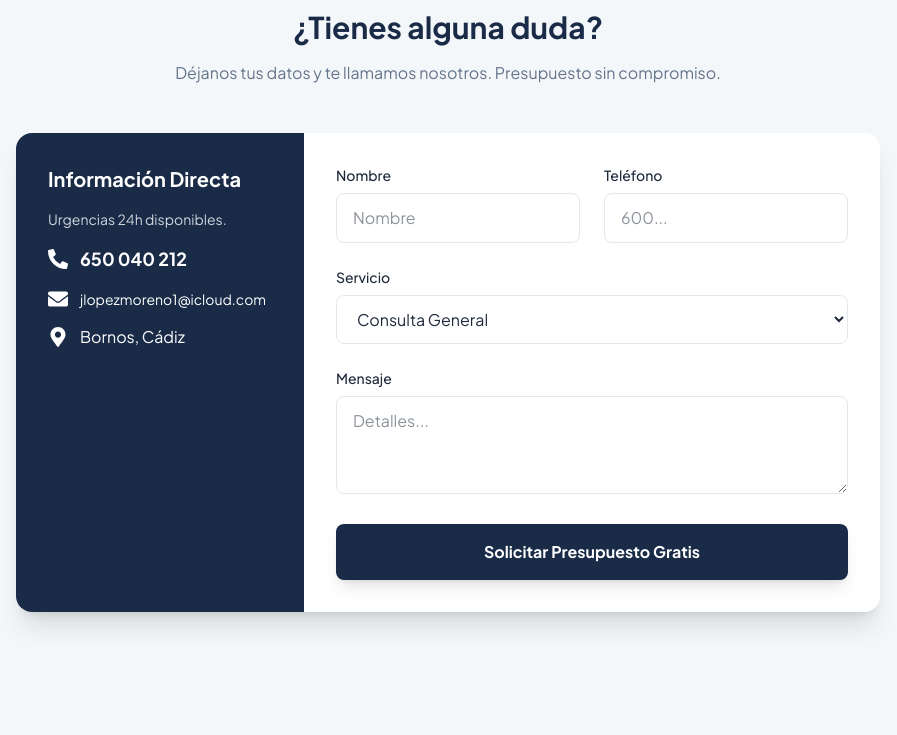
Test: Contact › shows inline fallback with WhatsApp on submission failure
Type "Juan" into the field labelled "Nombre". click: (458, 218)
box: left=336, top=193, right=580, bottom=243
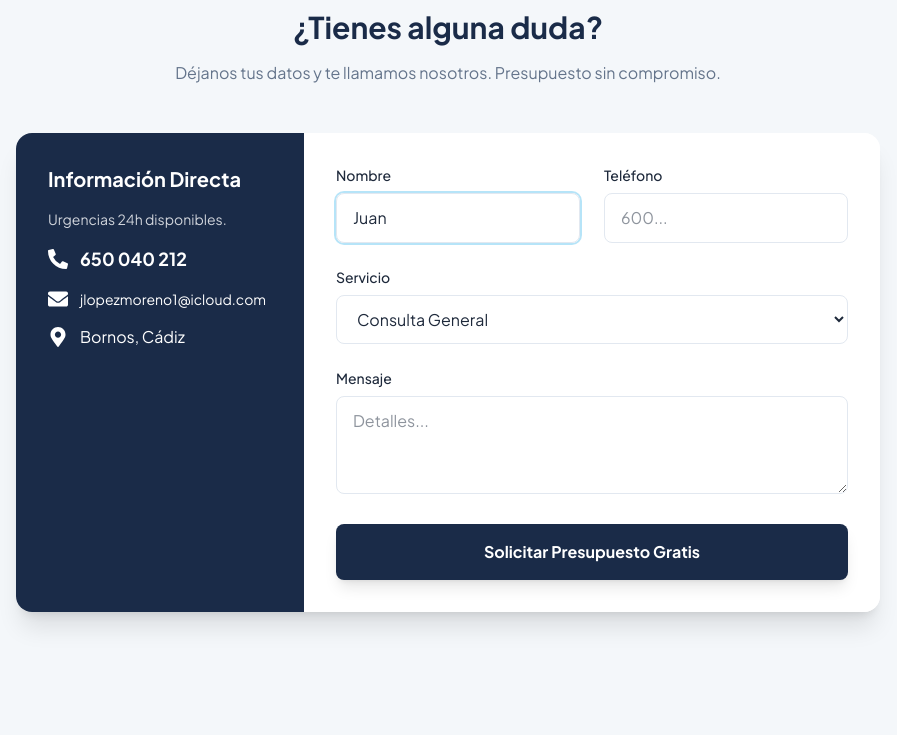
Type "600123456" into the field labelled "Teléfono". click: (726, 218)
box: left=604, top=193, right=848, bottom=243
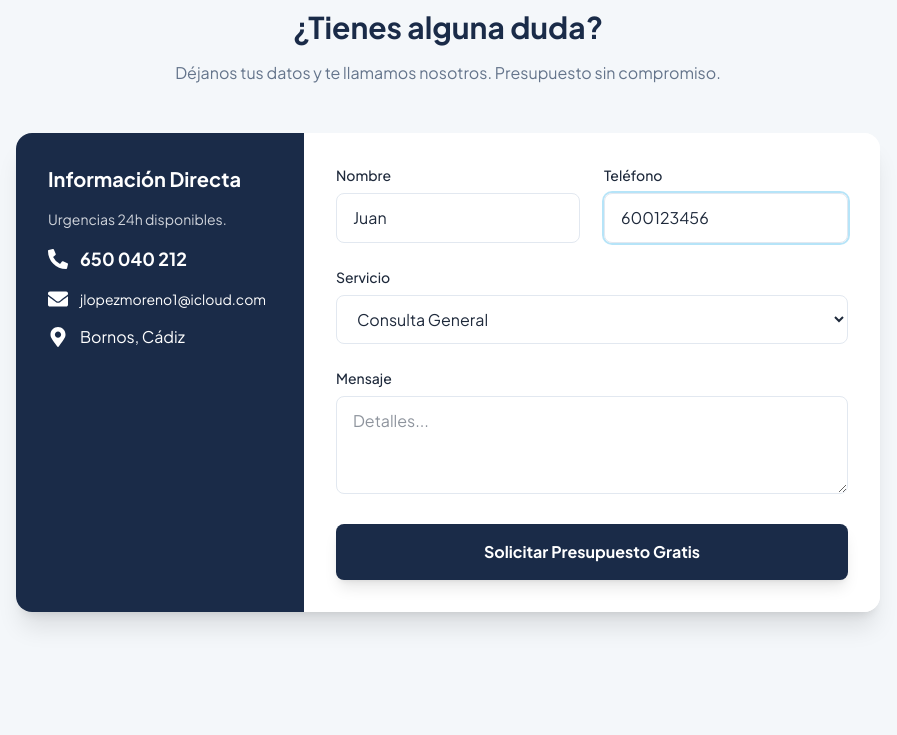
Click the button "Solicitar Presupuesto Gratis". click: (592, 552)
box: left=336, top=524, right=848, bottom=580
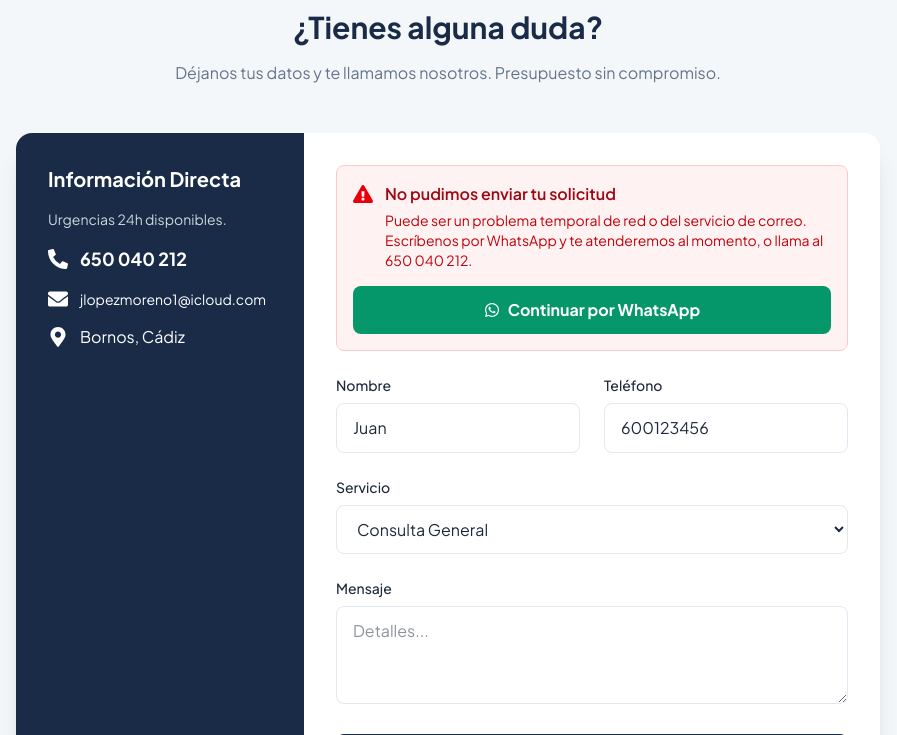
Expected: the text "No pudimos enviar tu solicitud" is shown, left=385, top=183, right=616, bottom=204
